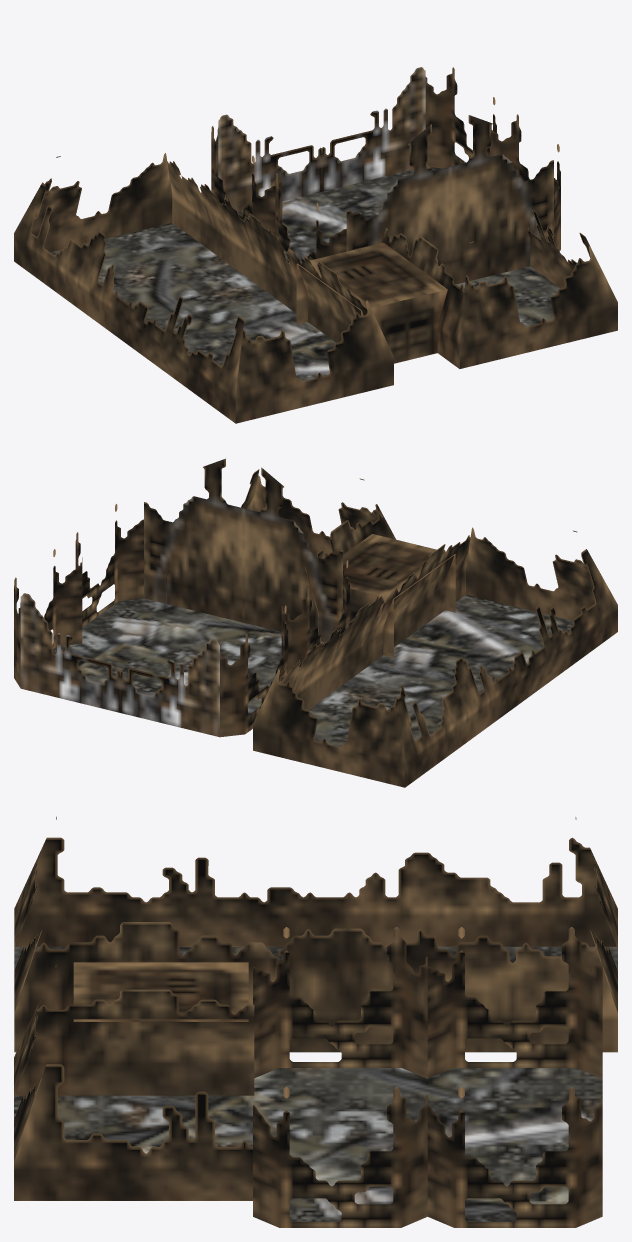
Rendered from hpg_gen_dam.glb.
3 renders of one model, top to bottom at view 1: azimuth 30°, elevation 25°; view 2: azimuth 150°, elevation 25°; view 3: azimuth 270°, elevation 25°, orthographic. The views are drawn at different scales.
Visible parts, largest first — view 1: HPG_GenDam; view 2: HPG_GenDam; view 3: HPG_GenDam.
Boxes of the visible parts, x1,y1,x2,y2 form: HPG_GenDam: (14,67,617,423); HPG_GenDam: (14,458,617,787); HPG_GenDam: (14,816,617,1227).
Bounding box in the file's own units: 23.72 × 9.53 × 21.56.
2 materials, 2 textured.
